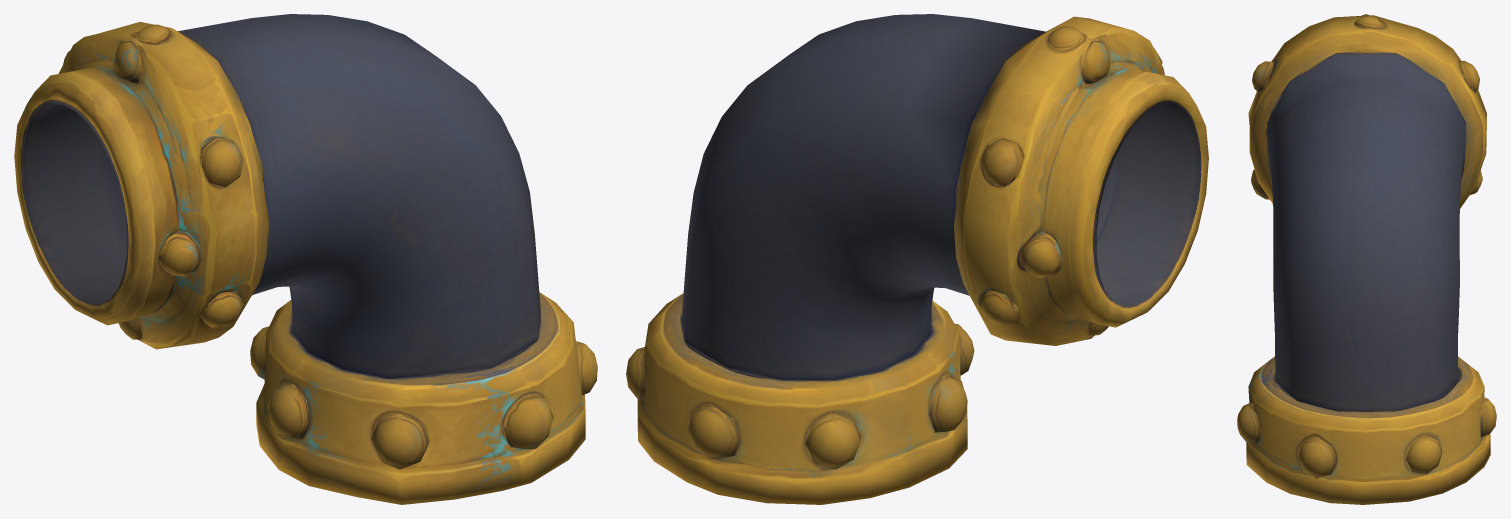
The model's file is steampunk_pipe_elbow.glb.
3 views of the same model, side by side, from view 1: azimuth 30°, elevation 25°; view 2: azimuth 150°, elevation 25°; view 3: azimuth 270°, elevation 25° (orthographic). The views are drawn at different scales.
Visible parts, largest first — view 1: tripo_node_c7de59a3-dd21-47f6-8e26-121fb27119da; view 2: tripo_node_c7de59a3-dd21-47f6-8e26-121fb27119da; view 3: tripo_node_c7de59a3-dd21-47f6-8e26-121fb27119da.
Boxes of the visible parts, x1=… form: tripo_node_c7de59a3-dd21-47f6-8e26-121fb27119da: x1=14, y1=14, x2=597, y2=504; tripo_node_c7de59a3-dd21-47f6-8e26-121fb27119da: x1=626, y1=14, x2=1208, y2=504; tripo_node_c7de59a3-dd21-47f6-8e26-121fb27119da: x1=1237, y1=14, x2=1496, y2=504.
Size of the model in its own units: 0.9995 by 0.9155 by 0.6265.
Materials: 1 (1 with a texture image).
